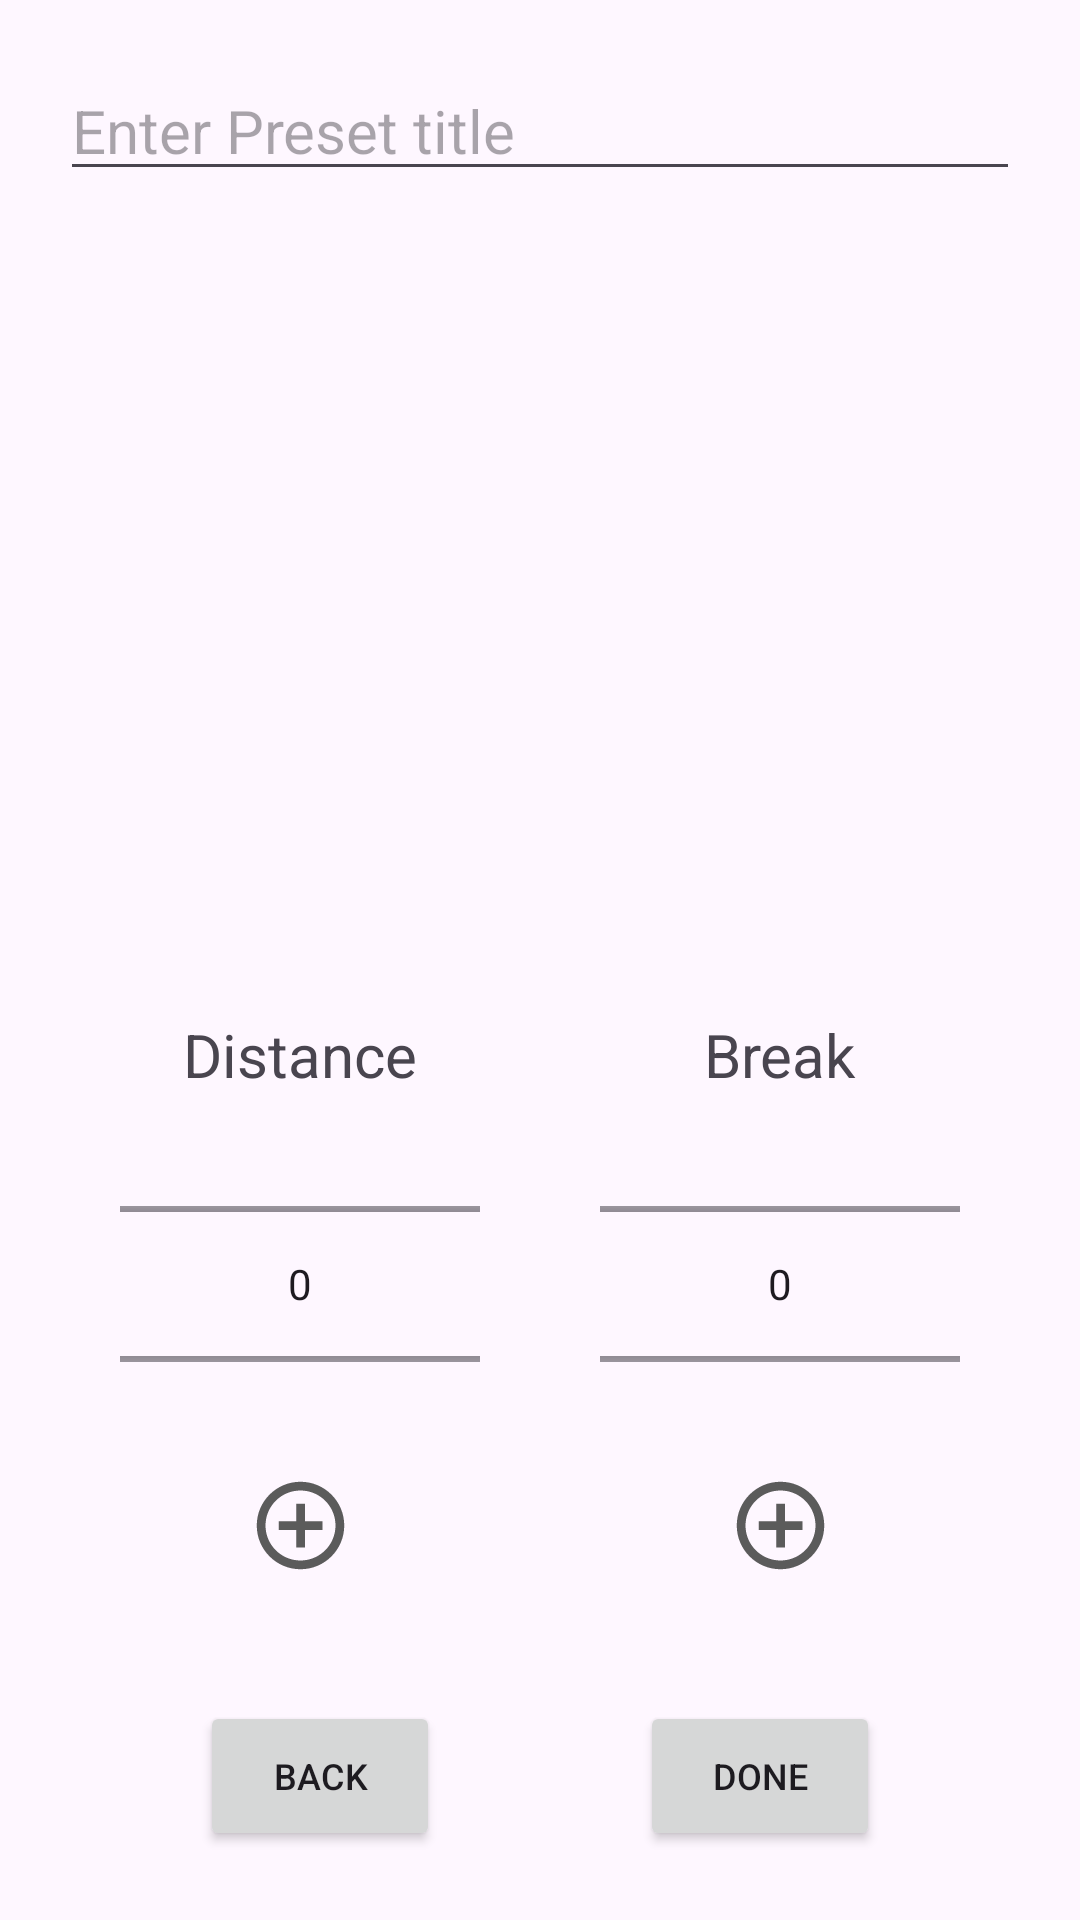

Icons on this 1080 x 1920 Android screen, each with the point to tap as [x,y]:
Add: [300,1525], [780,1525]
